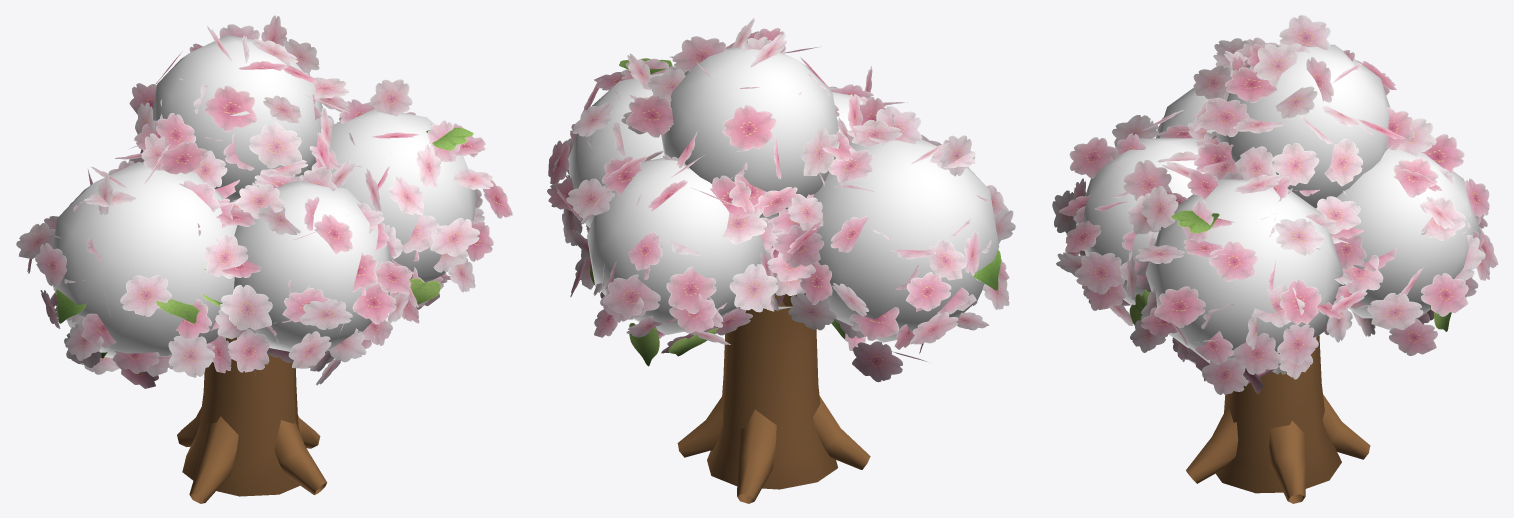
The model's file is tree-wide-blossom.glb.
The picture shows the model from 3 angles, left to right: view 1: azimuth 30°, elevation 25°; view 2: azimuth 150°, elevation 25°; view 3: azimuth 270°, elevation 25°; orthographic projection. The views are drawn at different scales.
Visible parts, largest first — view 1: Crown, Hull, Trunk; view 2: Hull, Crown, Trunk; view 3: Crown, Hull, Trunk.
Boxes of the visible parts, x1=… form: Crown: x1=16, y1=15, x2=512, y2=388; Hull: x1=52, y1=35, x2=477, y2=358; Trunk: x1=177, y1=337, x2=327, y2=503; Hull: x1=568, y1=47, x2=999, y2=342; Crown: x1=547, y1=18, x2=1015, y2=382; Trunk: x1=677, y1=293, x2=870, y2=503; Crown: x1=1052, y1=15, x2=1498, y2=394; Hull: x1=1076, y1=44, x2=1480, y2=364; Trunk: x1=1186, y1=335, x2=1370, y2=503.
Size of the model in its own units: 3.42 by 3.33 by 3.06.
Materials: 4 (1 with a texture image).
